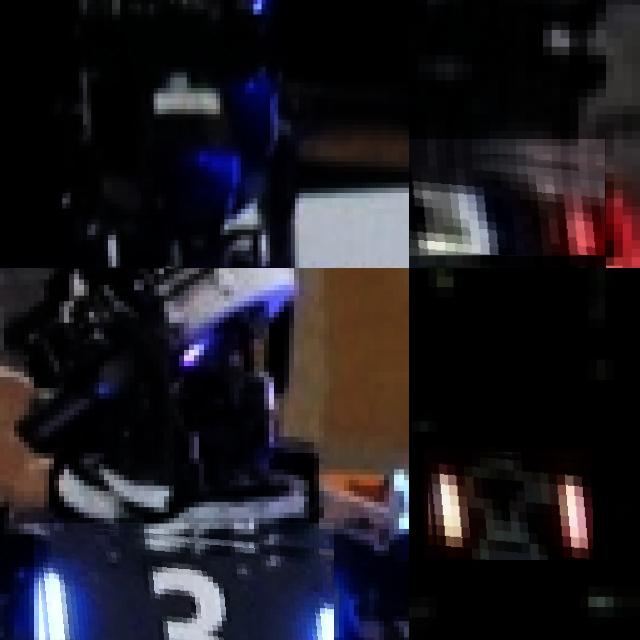B3: (34, 523, 334, 640)
R3: (409, 139, 605, 257)
Rs: (424, 446, 593, 560)
